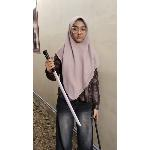Pedang: (40, 50, 82, 130)
